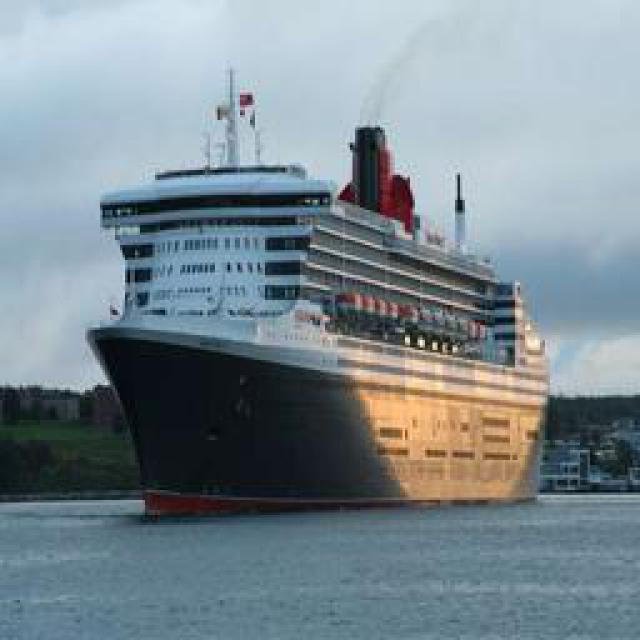Ship: (85, 63, 545, 508)
